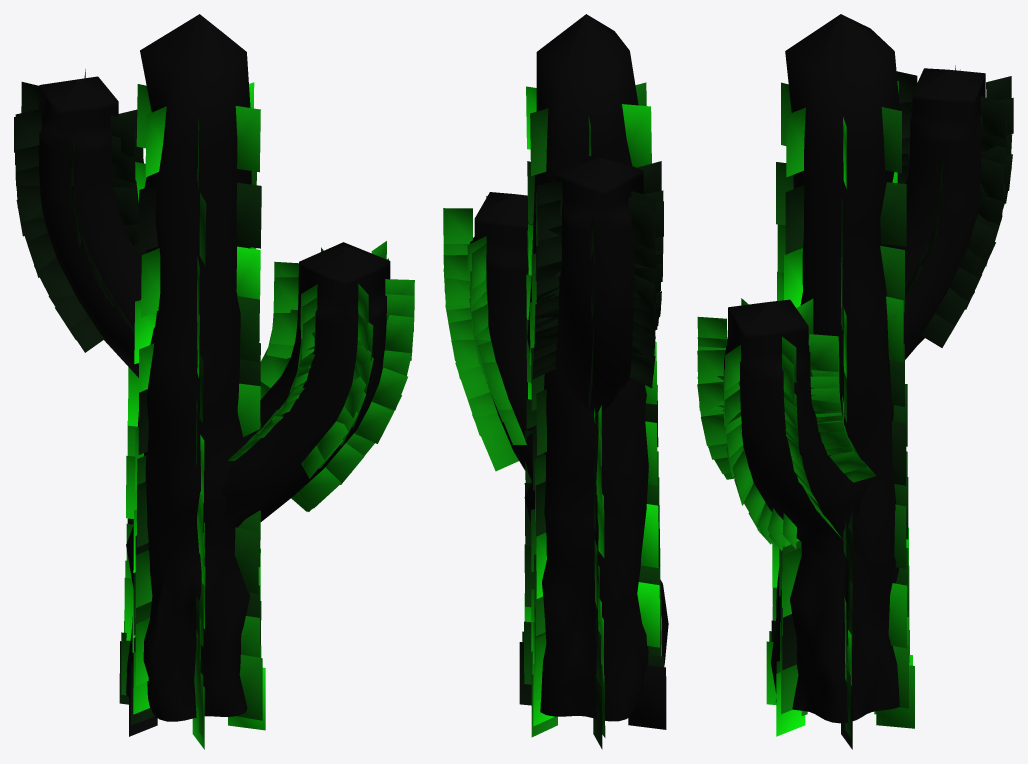
Rendered from Cactus_1_12.fbx.
3 renders of one model, left to right at view 1: azimuth 30°, elevation 25°; view 2: azimuth 150°, elevation 25°; view 3: azimuth 270°, elevation 25°, orthographic.
Visible parts, largest first — view 1: Cactus_1_12; view 2: Cactus_1_12; view 3: Cactus_1_12.
Part boxes in pixels (x1,y1,x2,y2): Cactus_1_12: (14,14,414,749); Cactus_1_12: (443,14,668,749); Cactus_1_12: (697,14,1013,749).
Bounding box in the file's own units: 172 × 393 × 160.
